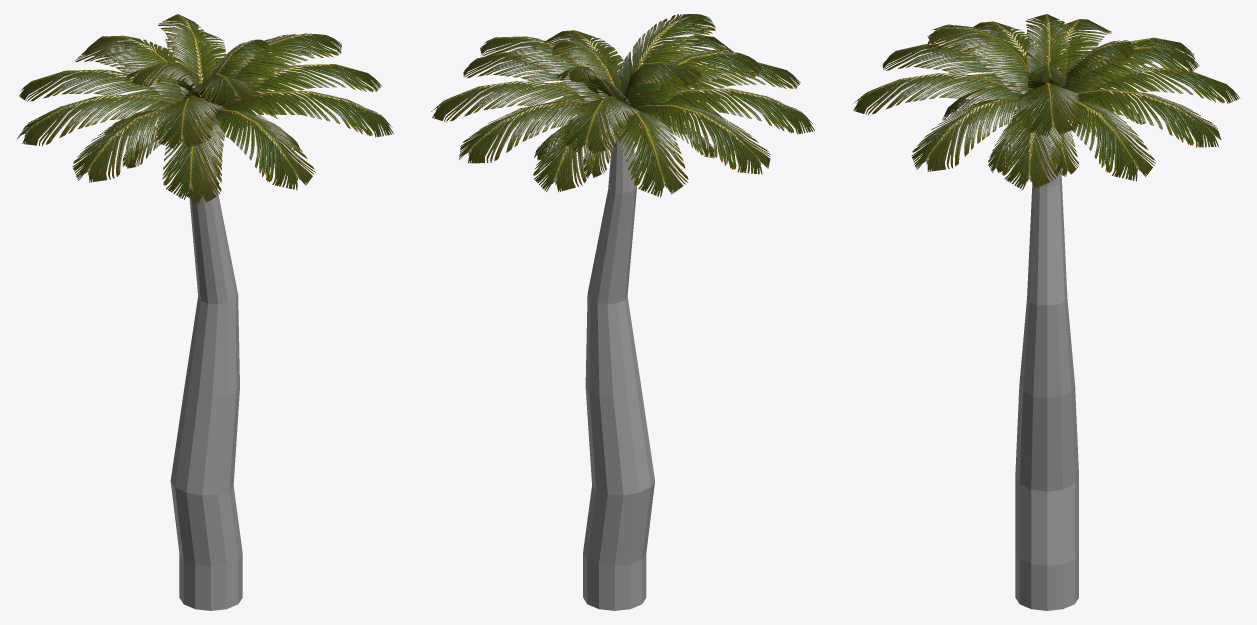
The model's file is palm tree.fbx.
3 renders of one model, left to right at view 1: azimuth 30°, elevation 25°; view 2: azimuth 150°, elevation 25°; view 3: azimuth 270°, elevation 25°, orthographic.
Visible parts, largest first — view 1: leafs3; view 2: leafs3; view 3: leafs3.
Part boxes in pixels (<box>): leafs3: <box>16,14,393,610</box>; leafs3: <box>431,14,814,610</box>; leafs3: <box>853,14,1240,610</box>.
Bounding box in the file's own units: 3.56 × 5.6 × 3.6.
Materials: 2 (1 with a texture image).
